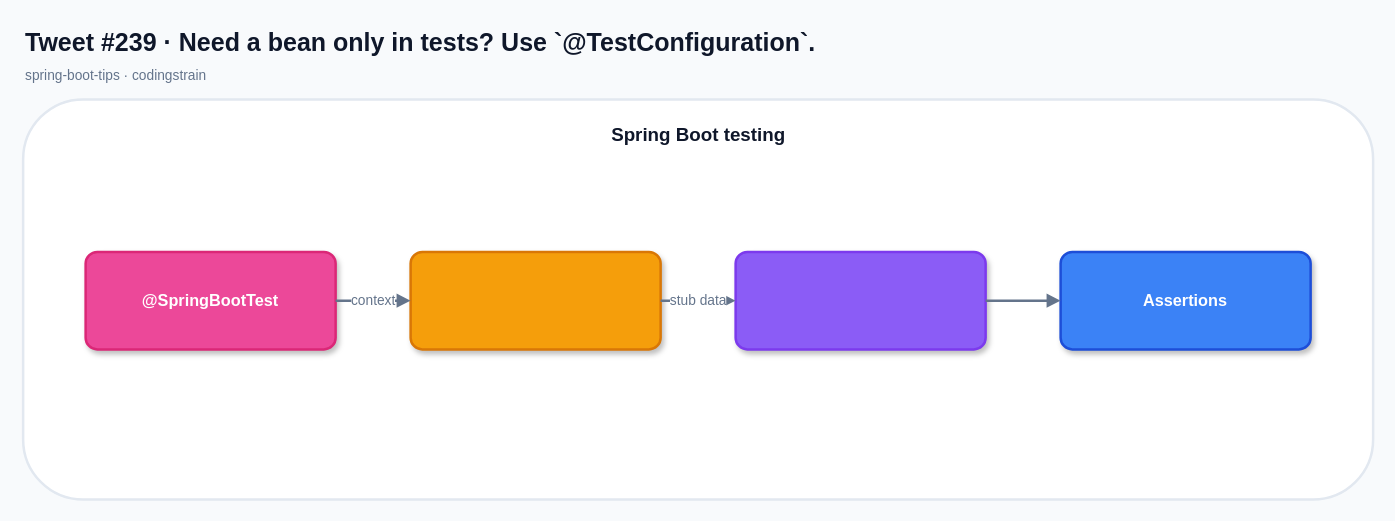
This 1395x521 diagram has some shape labels left out. The centre of each missing label's shape, as x and y in pixels:
@MockBean / @Sql: the point at 536,302
Component under test: the point at 861,302
